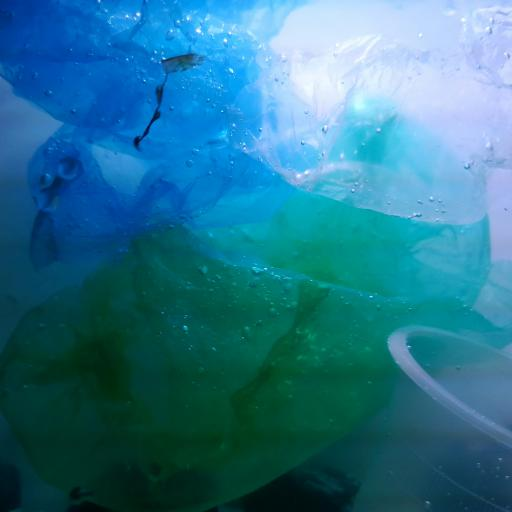plastic_bag: (0, 208, 509, 510), (0, 0, 266, 259), (250, 25, 509, 228)
plastic_cup: (352, 323, 512, 512)
